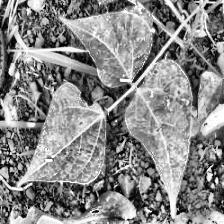ALS: (23, 84, 107, 186), (135, 68, 191, 215)
